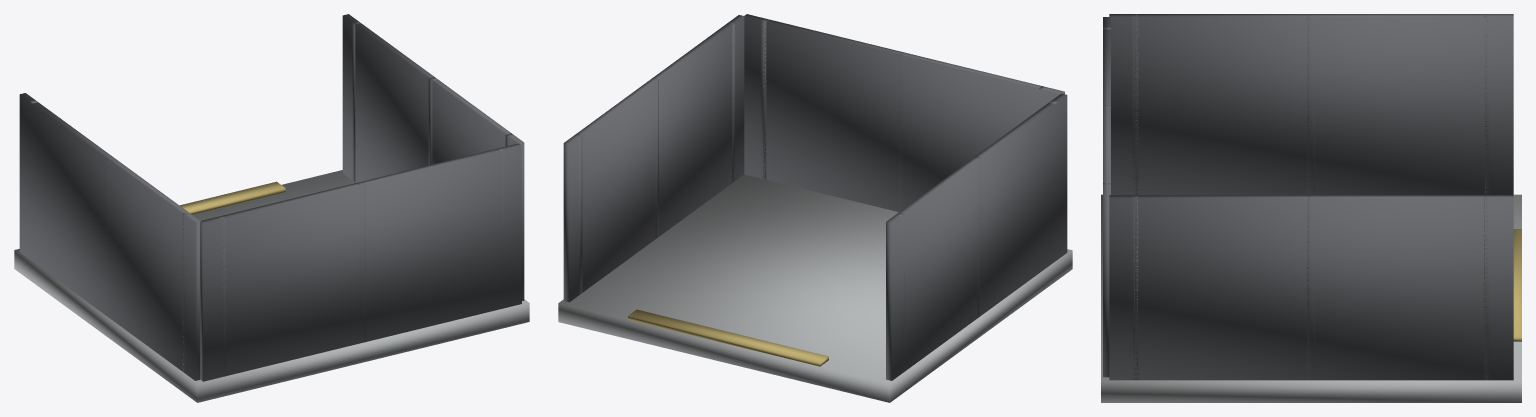
Rendered from floor_w220_d210_three.glb.
The picture shows the model from 3 angles, left to right: view 1: azimuth 30°, elevation 25°; view 2: azimuth 150°, elevation 25°; view 3: azimuth 270°, elevation 25°; orthographic projection. The views are drawn at different scales.
Visible parts, largest first — view 1: world; view 2: world; view 3: world.
Boxes of the visible parts, box(x1,y1,x2,y2) form: world: box(14, 14, 529, 402); world: box(558, 14, 1072, 402); world: box(1101, 14, 1521, 402).
Size of the model in its own units: 2.2 by 1.12 by 2.1.
